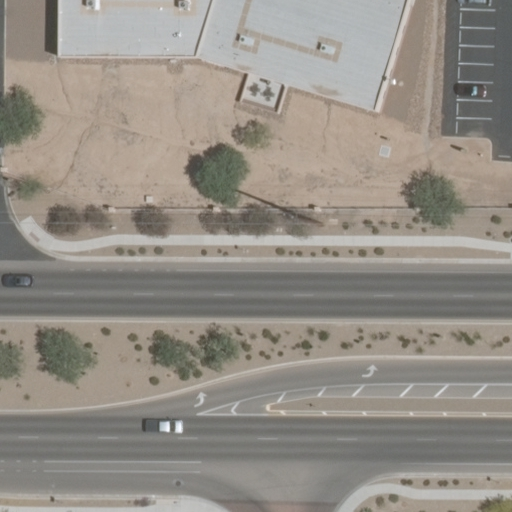DT: (280, 208, 331, 234)
